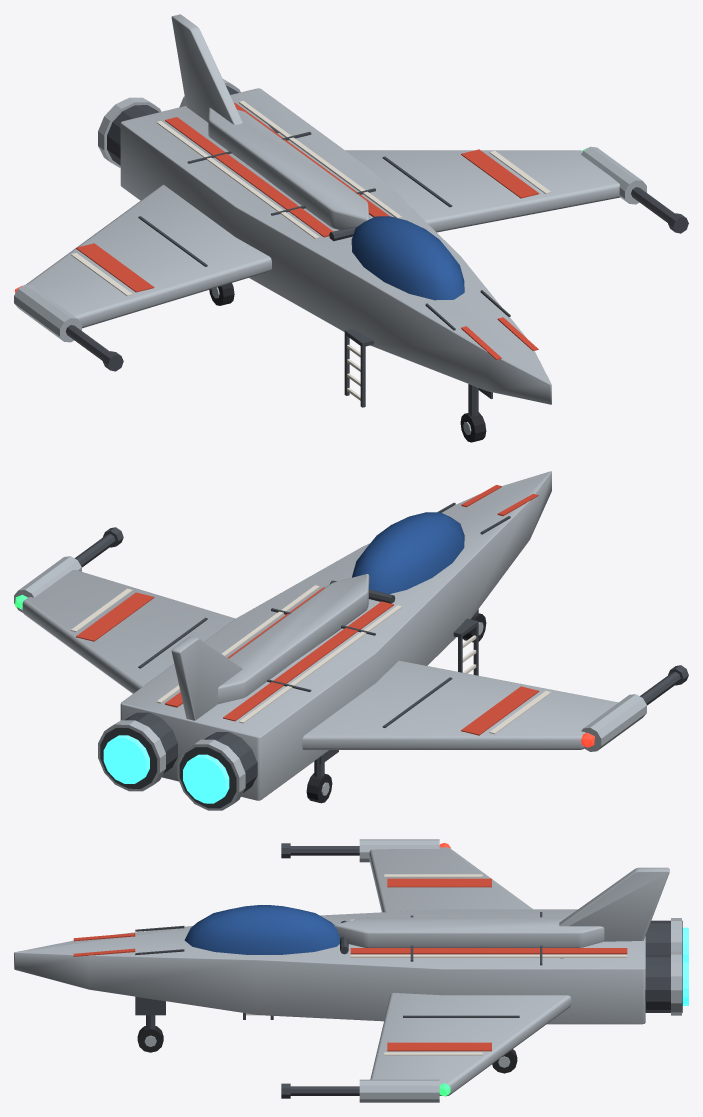
Rendered from low-poly-space-fighter.glb.
3 renders of one model, top to bottom at view 1: azimuth 30°, elevation 25°; view 2: azimuth 150°, elevation 25°; view 3: azimuth 270°, elevation 25°, orthographic. The views are drawn at different scales.
Visible parts, largest first — view 1: Fighter_Body, Canopy, Ladder; view 2: Fighter_Body, Canopy, Ladder; view 3: Fighter_Body, Canopy.
Part boxes in pixels (x1,y1,x2,y2): Fighter_Body: [14, 14, 688, 442]; Canopy: [351, 216, 464, 300]; Ladder: [344, 329, 373, 407]; Fighter_Body: [14, 471, 688, 810]; Canopy: [352, 512, 464, 594]; Ladder: [453, 618, 478, 675]; Fighter_Body: [14, 839, 688, 1102]; Canopy: [184, 905, 340, 954].
Size of the model in its own units: 19.22 by 6.5 by 21.95.
